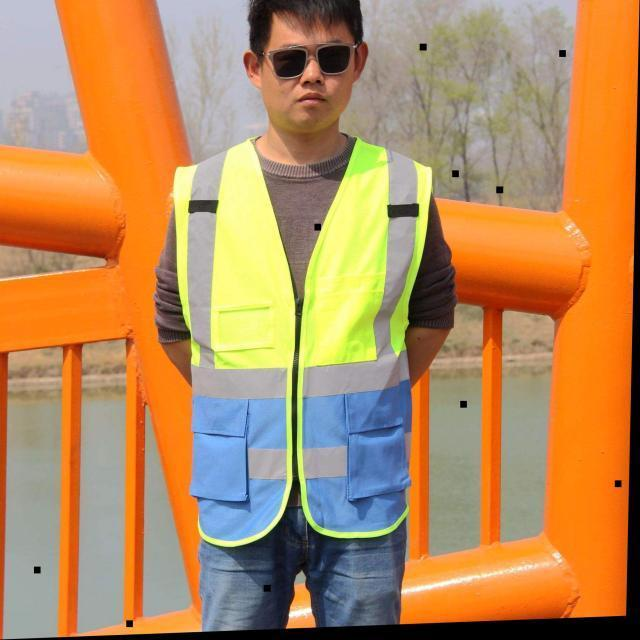safety_helmet: (157, 145, 435, 545)
